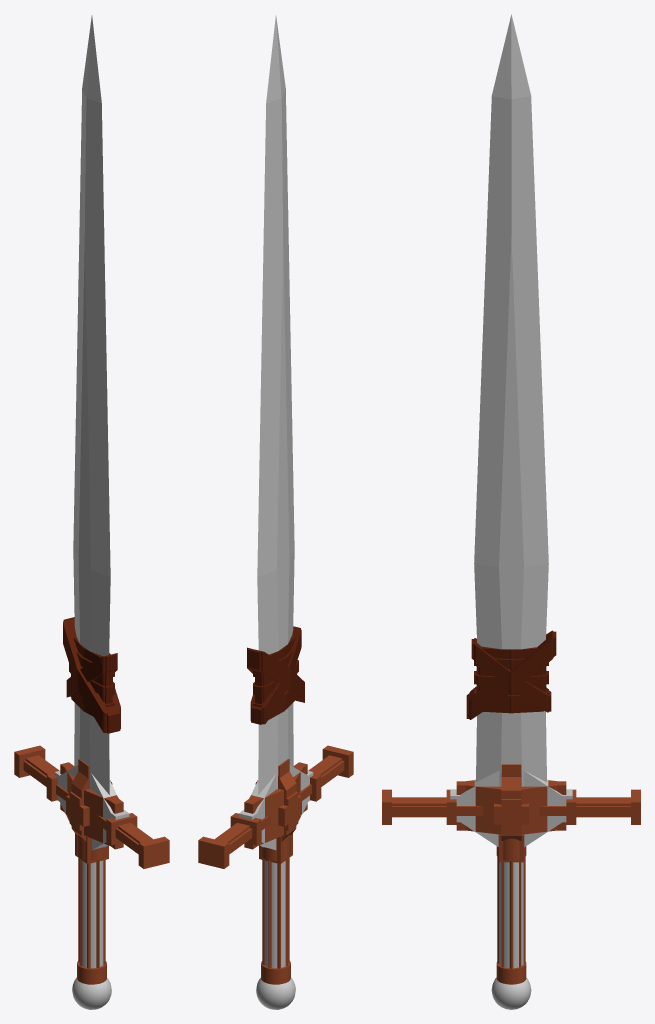
The model's file is knight-class-melle.obj.
The picture shows the model from 3 angles, left to right: view 1: azimuth 30°, elevation 25°; view 2: azimuth 150°, elevation 25°; view 3: azimuth 270°, elevation 25°; orthographic projection.
Parts seen in each view (by area): view 1: Union1, Union2, Union6, Union3, Union4, Part21, Union5, Part11; view 2: Union1, Union2, Union6, Union3, Union4, Part21, Union5, Part11; view 3: Union1, Union2, Union6, Union4, Union3, Union5, Part21, Part11.
Boxes of the visible parts, x1,y1,x2,y2 form: Union1: (73, 15, 110, 656); Union2: (14, 745, 169, 868); Union6: (63, 617, 120, 733); Union3: (75, 759, 108, 984); Union4: (74, 703, 109, 794); Part21: (82, 860, 103, 968); Union5: (54, 765, 129, 850); Part11: (72, 977, 111, 1009); Union1: (257, 15, 294, 654); Union2: (198, 745, 353, 868); Union6: (247, 626, 304, 724); Union3: (259, 759, 292, 984); Union4: (258, 703, 293, 794); Part21: (264, 860, 285, 968); Union5: (238, 765, 313, 850); Part11: (256, 977, 295, 1009); Union1: (474, 14, 548, 649); Union2: (382, 774, 640, 840); Union6: (466, 630, 556, 719); Union4: (476, 711, 546, 786); Union3: (496, 764, 526, 984); Union5: (450, 770, 572, 846); Part21: (499, 862, 523, 968); Part11: (491, 977, 531, 1009).
Bounding box in the file's own units: 0.4 × 11.01 × 2.6.
